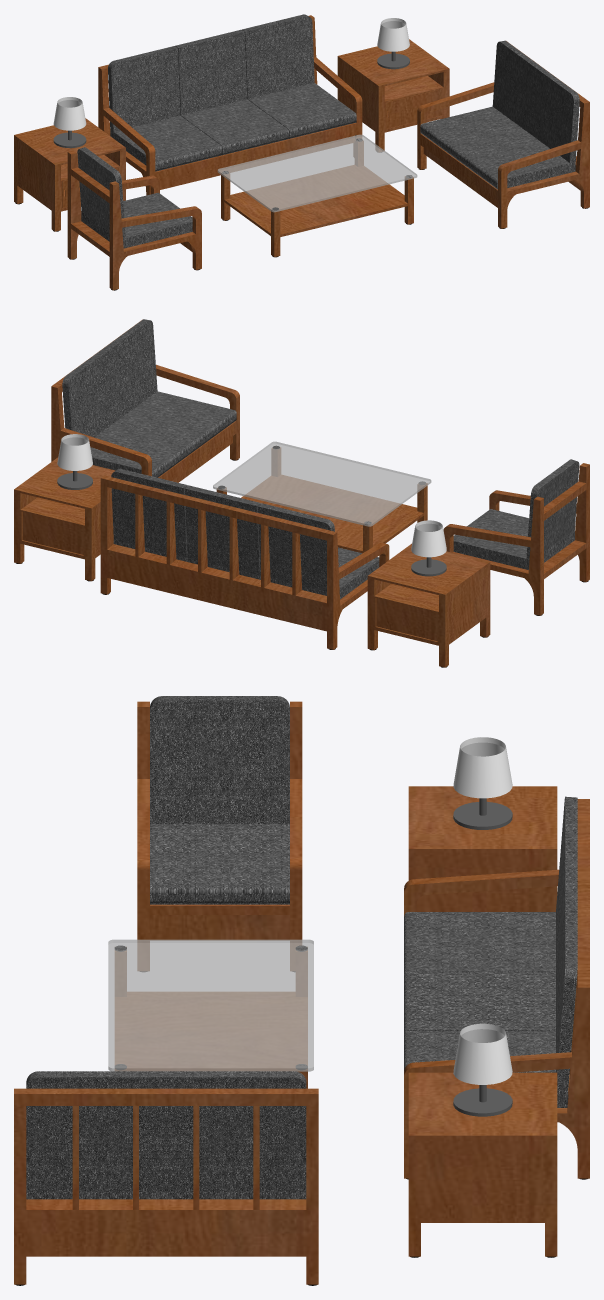
File: sofa_set.glb
3 views of the same model, one above another, from view 1: azimuth 30°, elevation 25°; view 2: azimuth 150°, elevation 25°; view 3: azimuth 270°, elevation 25° (orthographic). The views are drawn at different scales.
Parts seen in each view (by area): view 1: Material2 (×4), Material3; view 2: Material2 (×4), Material3; view 3: Material2 (×4), Material3.
Part boxes in pixels (x1,y1,x2,y2): Material2 (×4): (14, 14, 589, 290); Material3: (53, 51, 409, 148); Material2 (×4): (14, 319, 589, 667); Material3: (57, 471, 446, 576); Material2 (×4): (14, 696, 589, 1284); Material3: (453, 798, 512, 1116).
Bounding box in the file's own units: 147 × 35.71 × 91.5.
7 materials, 2 textured.
